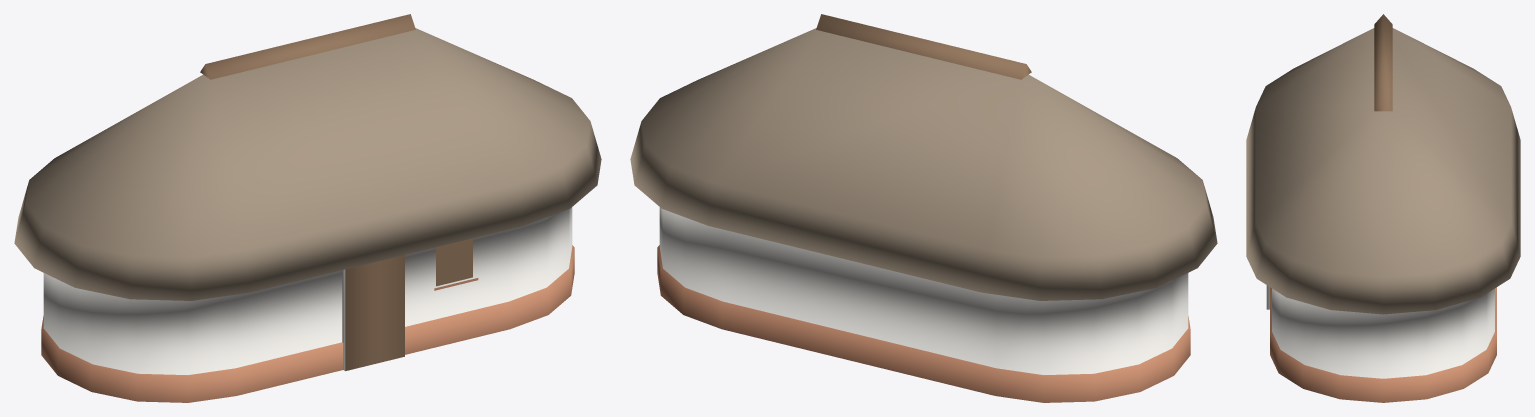
File: casa_pueblo.fbx
3 views of the same model, side by side, from view 1: azimuth 30°, elevation 25°; view 2: azimuth 150°, elevation 25°; view 3: azimuth 270°, elevation 25° (orthographic). The views are drawn at different scales.
Parts seen in each view (by area): view 1: Casa_Maya_Yucatan_V3; view 2: Casa_Maya_Yucatan_V3; view 3: Casa_Maya_Yucatan_V3.
Part boxes in pixels (bbox=[...]): Casa_Maya_Yucatan_V3: bbox=[14, 14, 601, 402]; Casa_Maya_Yucatan_V3: bbox=[630, 14, 1217, 402]; Casa_Maya_Yucatan_V3: bbox=[1246, 14, 1520, 402].
Size of the model in its own units: 960 by 462 by 480.
